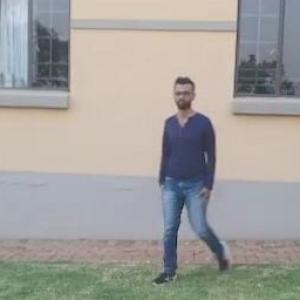follow: (158, 76, 218, 278)
